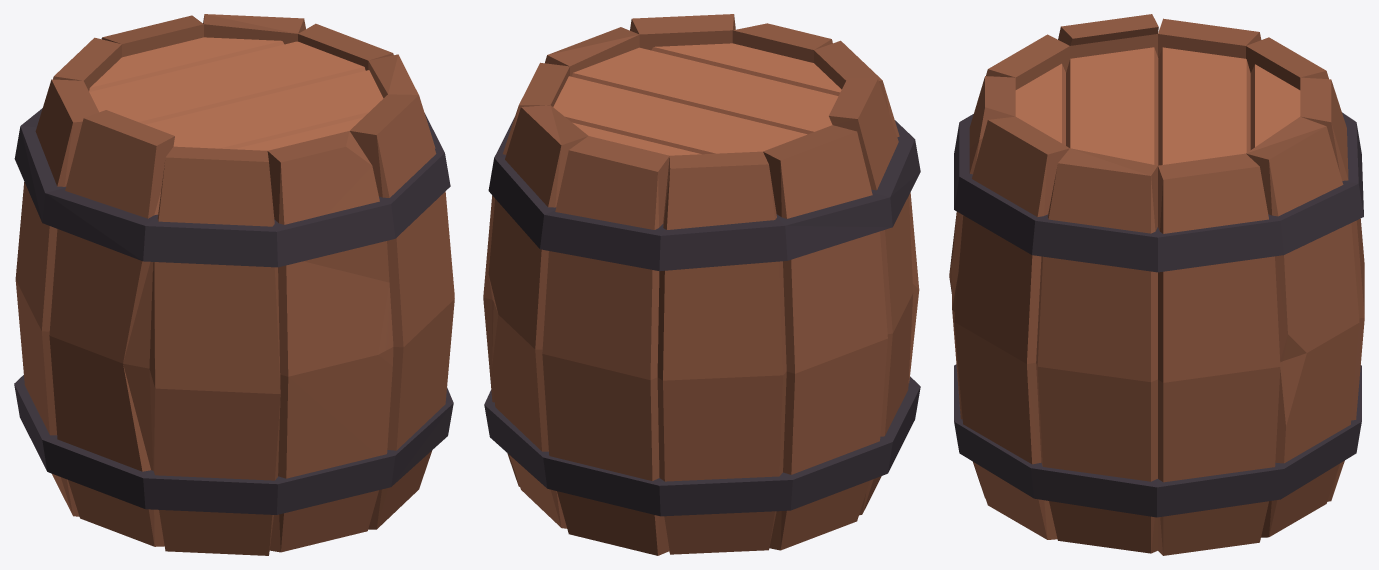
File: Barrel.fbx
3 views of the same model, side by side, from view 1: azimuth 30°, elevation 25°; view 2: azimuth 150°, elevation 25°; view 3: azimuth 270°, elevation 25° (orthographic). The views are drawn at different scales.
Visible parts, largest first — view 1: Barrel; view 2: Barrel; view 3: Barrel.
Boxes of the visible parts, x1,y1,x2,y2 form: Barrel: (14, 14, 454, 555); Barrel: (483, 14, 920, 555); Barrel: (949, 14, 1364, 555).
Size of the model in its own units: 0.7443 by 0.7497 by 0.7087.
